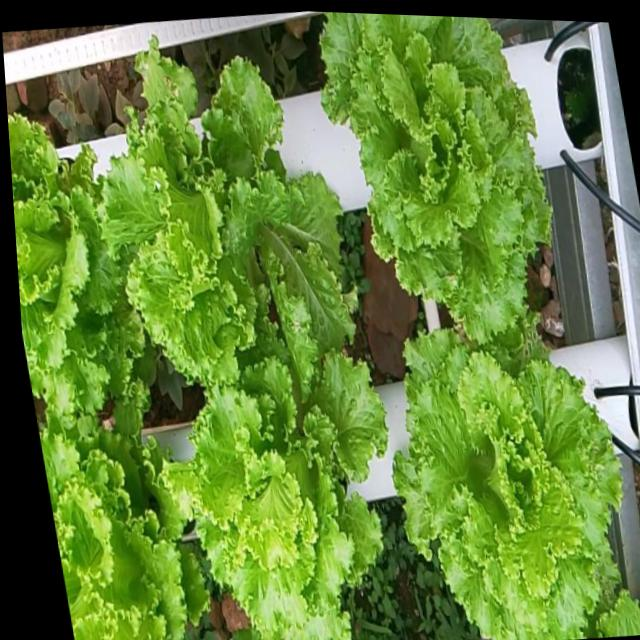Mature: (96, 50, 351, 389), (317, 12, 548, 350), (388, 334, 640, 640), (170, 336, 383, 640), (8, 113, 138, 414), (38, 413, 203, 640)
